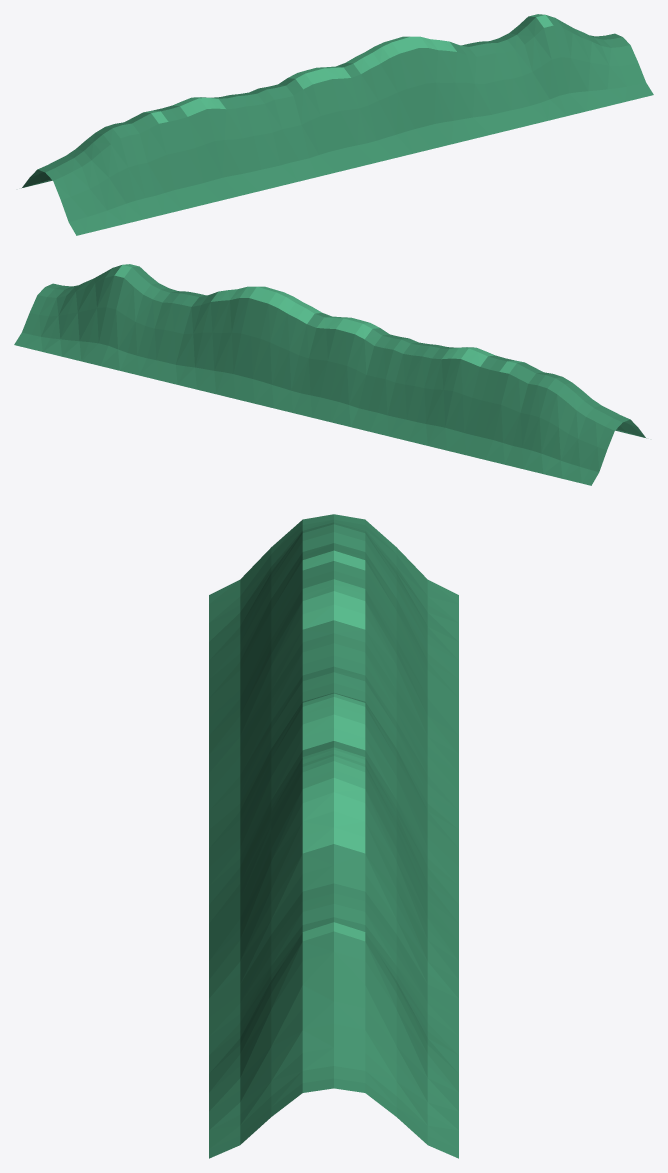
The model's file is W3_Far_HillsB.fbx.
The picture shows the model from 3 angles, top to bottom: view 1: azimuth 30°, elevation 25°; view 2: azimuth 150°, elevation 25°; view 3: azimuth 270°, elevation 25°; orthographic projection. The views are drawn at different scales.
Parts seen in each view (by area): view 1: W3_Far_HillsB; view 2: W3_Far_HillsB; view 3: W3_Far_HillsB.
Part boxes in pixels (bbox=[...]): W3_Far_HillsB: bbox=[21, 14, 653, 235]; W3_Far_HillsB: bbox=[14, 264, 646, 485]; W3_Far_HillsB: bbox=[209, 514, 458, 1158].
Size of the model in its own units: 480 by 69.26 by 90.
